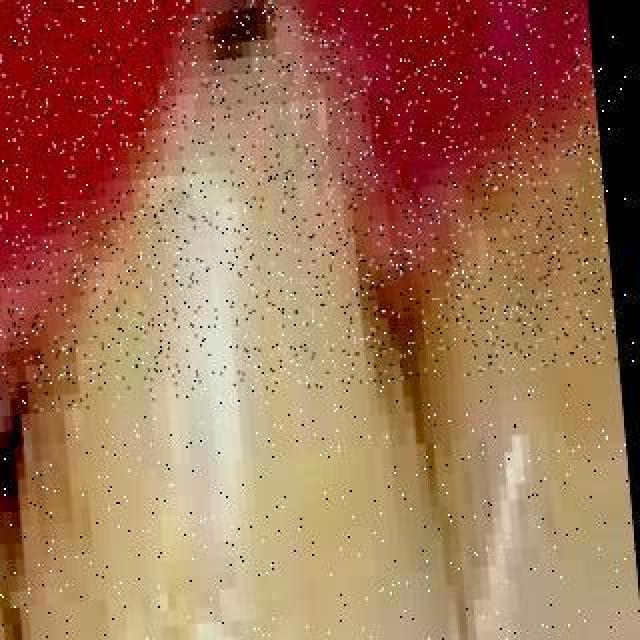cavities: (114, 0, 412, 188)
spacing: (0, 380, 90, 640)
